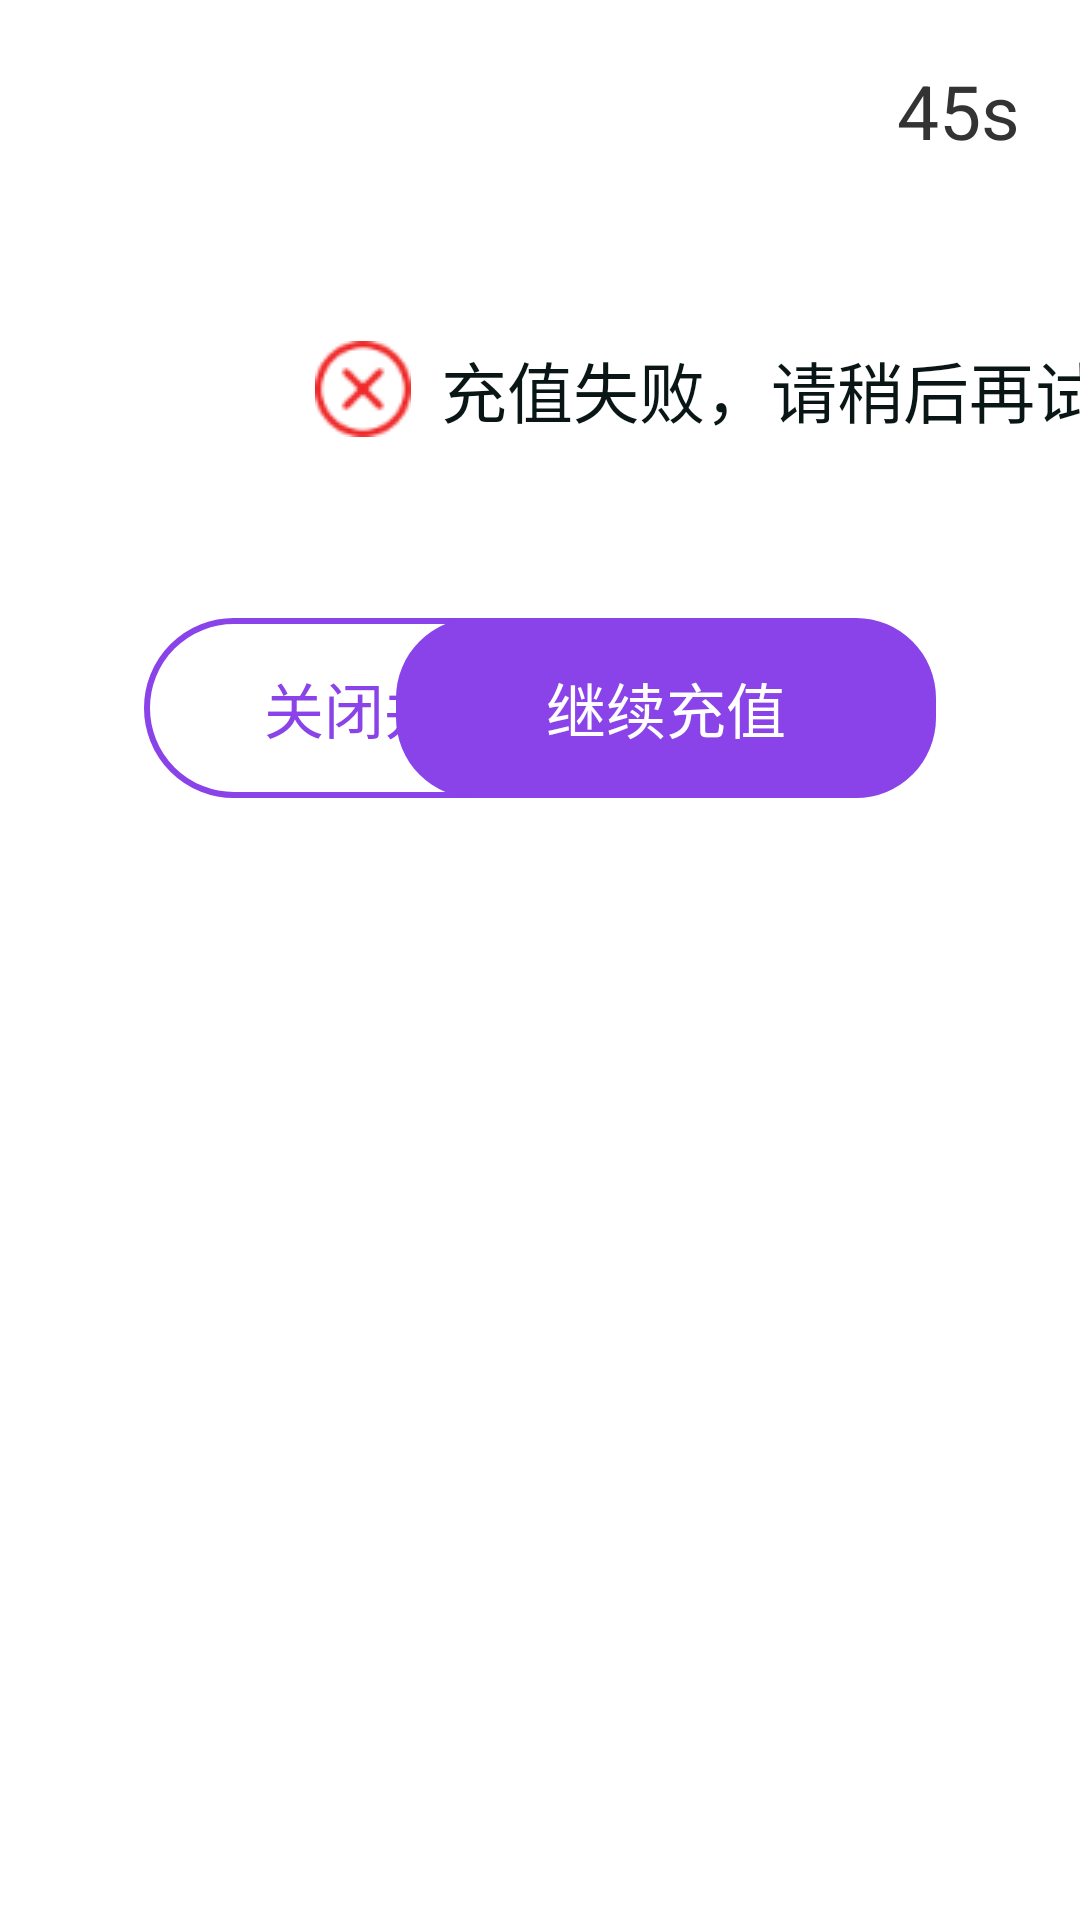

Icons on this 1080 x 1920 Android screen, each with the point to tap as (x=x, y=y):
fail: (x=363, y=389)
